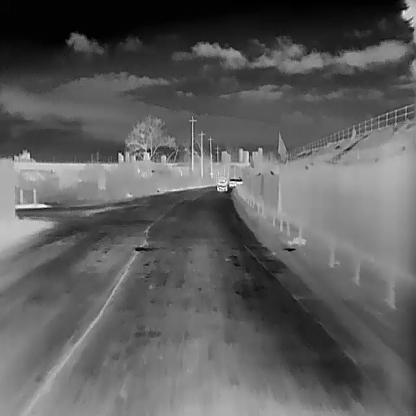car: (216, 177, 227, 191), (229, 177, 236, 187), (236, 177, 242, 184)
